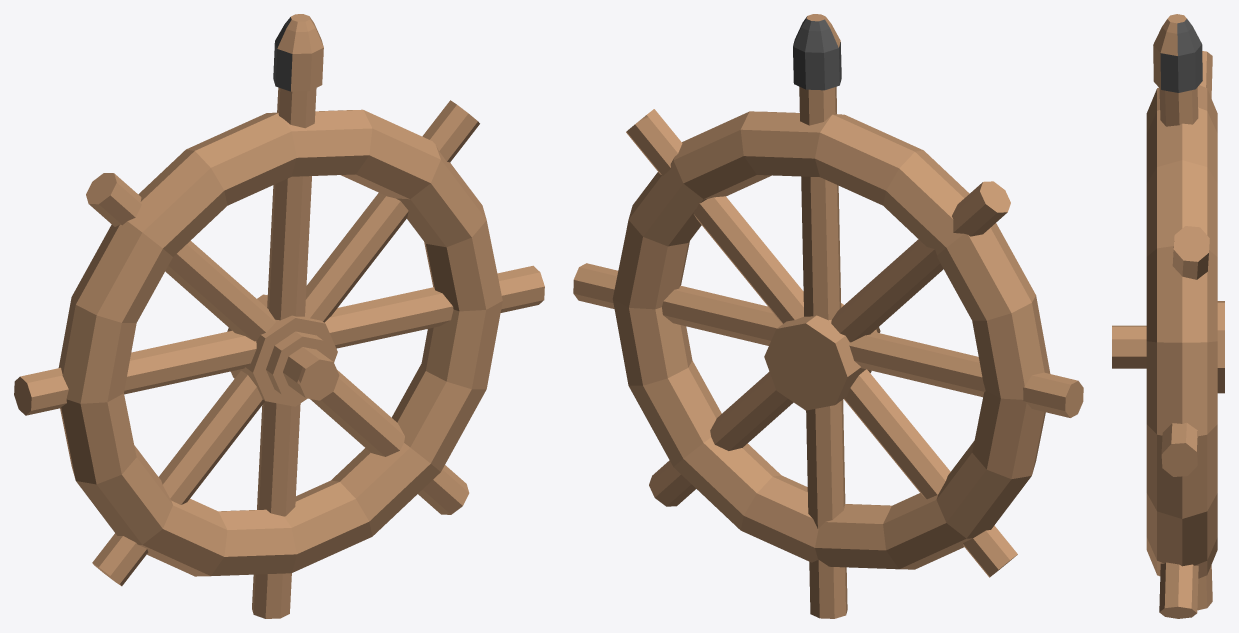
File: Wheel.glb
3 views of the same model, side by side, from view 1: azimuth 30°, elevation 25°; view 2: azimuth 150°, elevation 25°; view 3: azimuth 270°, elevation 25° (orthographic).
Visible parts, largest first — view 1: Wheel; view 2: Wheel; view 3: Wheel.
Boxes of the visible parts, x1,y1,x2,y2 form: Wheel: (14, 14, 544, 618); Wheel: (573, 14, 1083, 618); Wheel: (1112, 14, 1224, 618).
Bounding box in the file's own units: 3 × 3.36 × 0.577.
2 materials, 1 textured.
